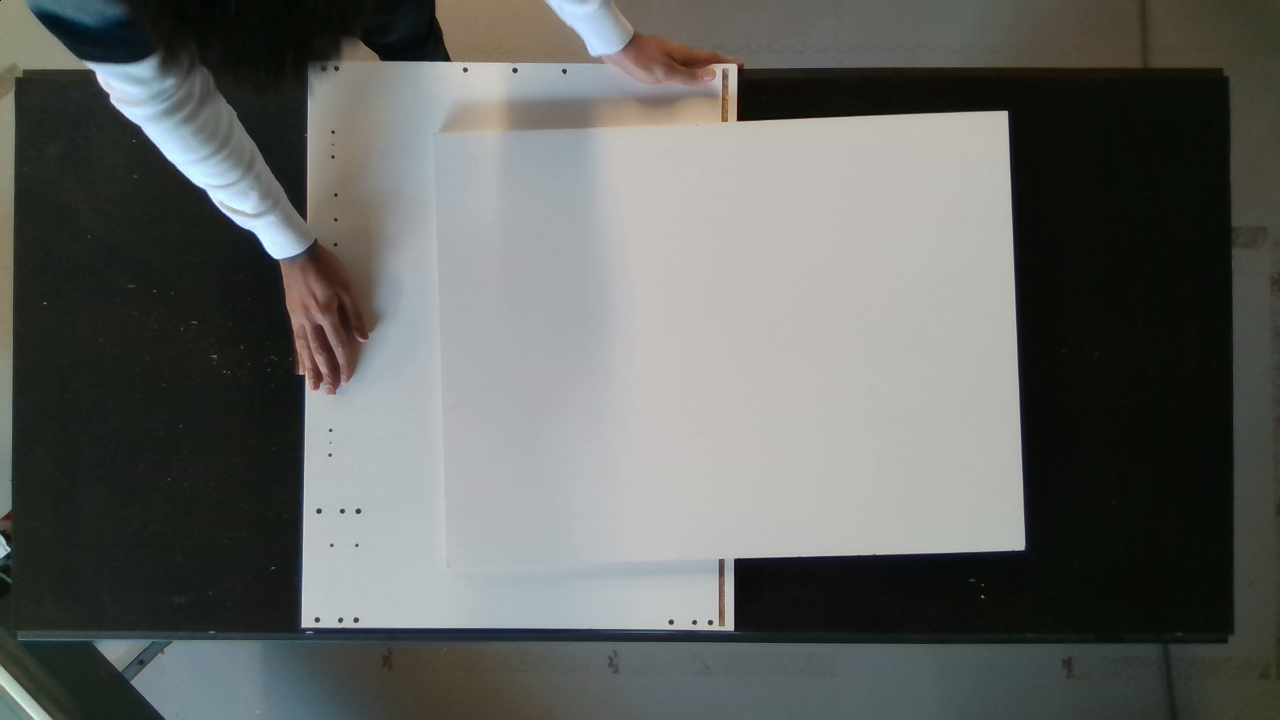part2: (425, 105, 1045, 570), (294, 31, 765, 639)
